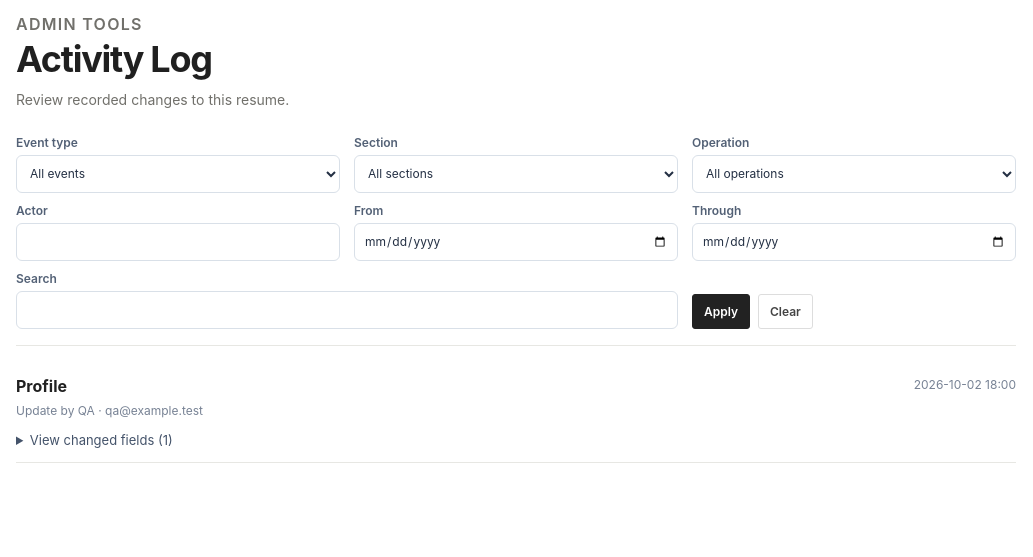
it: Activity Log page › renders Profile V2 translation and shared-field changes from the complete aggregate
The image size is (1033, 557).
Expected: the text "Update by QA · qa@example.test" is shown, [16,402,203,420]
Click the heading "View changed fields (1)".
click(101, 440)  # box [30,432,173,448]
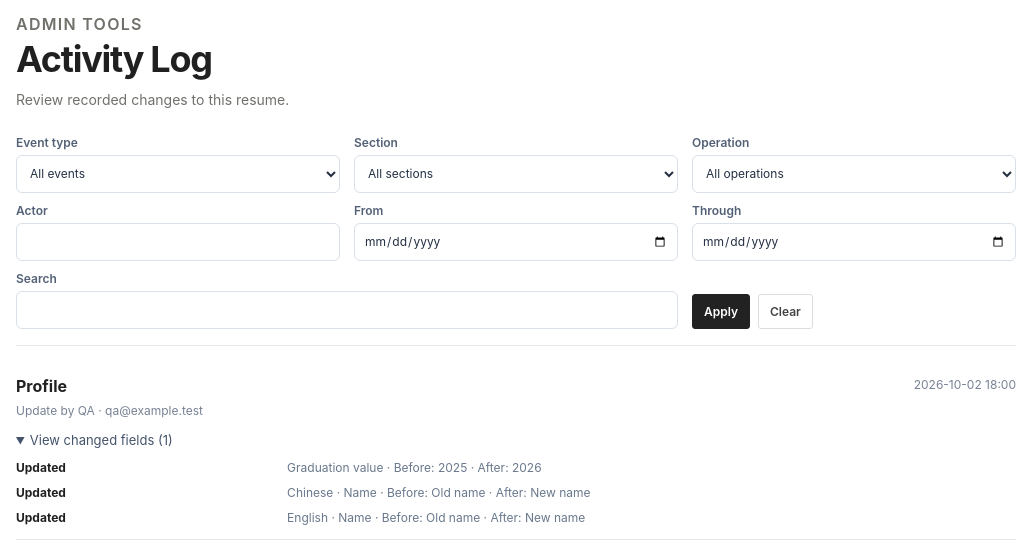
Result: the text "Graduation value · Before: 2025 · After: 2026" is shown at [287,460,542,475]
Result: the text "English · Name · Before: Old name · After: New name" is shown at [287,510,585,525]
